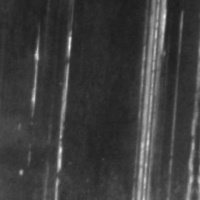scratches: (131, 2, 165, 200), (54, 25, 75, 198), (25, 30, 43, 123)
